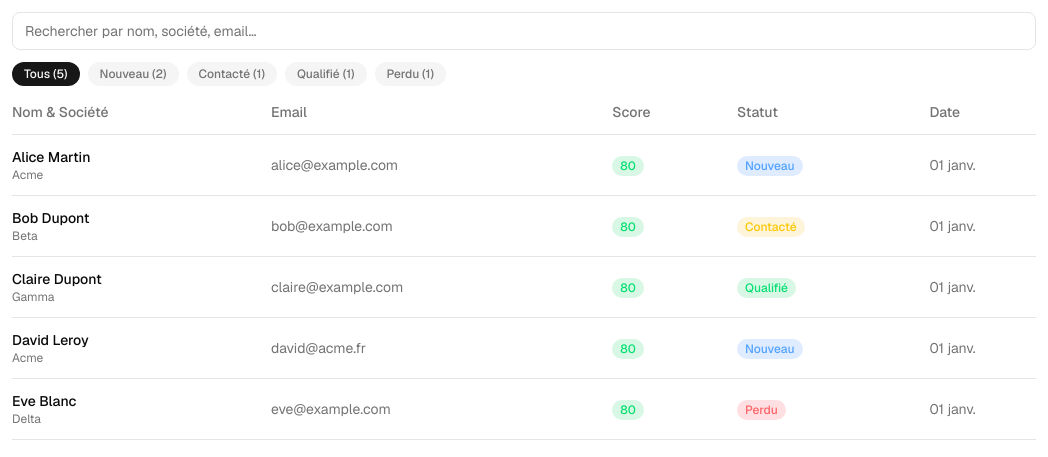
it: LeadsList — interaction recherche + filtres statut › filtre les leads par recherche (nom)
Type "dupont" into the field with placeholder "Rechercher par nom, société, email…".
click(524, 31); type("dupont")  # box [12,12,1036,50]
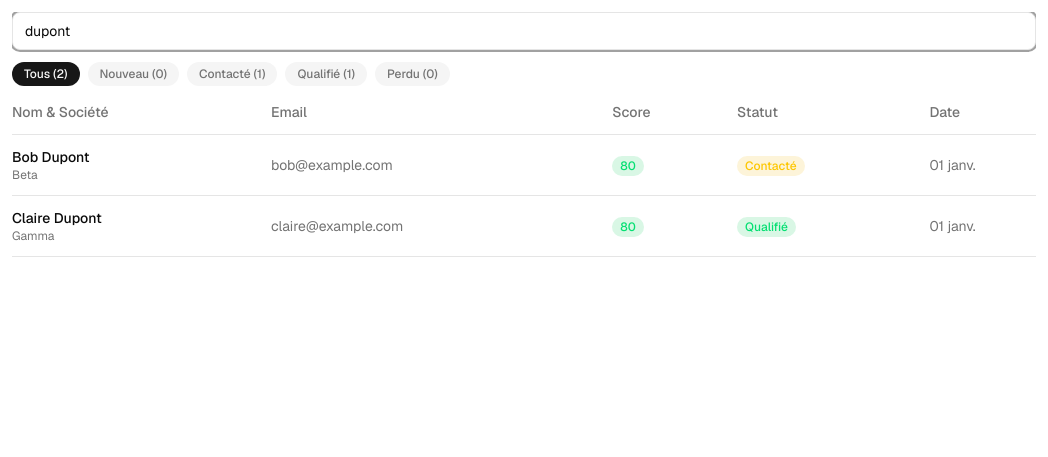
Expected: the text "Bob Dupont" is shown, [12,148,90,166]
Now the number of rows is 3, box [12,102,1036,134]; [12,134,1036,196]; [12,196,1036,256]
Now the link "Alice Martin" is gone
